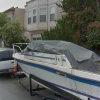Boat: (5, 28, 95, 99)
